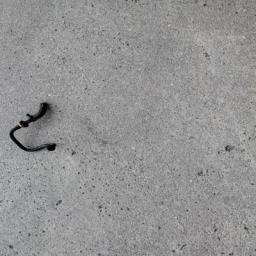FOD: (10, 99, 61, 160)
